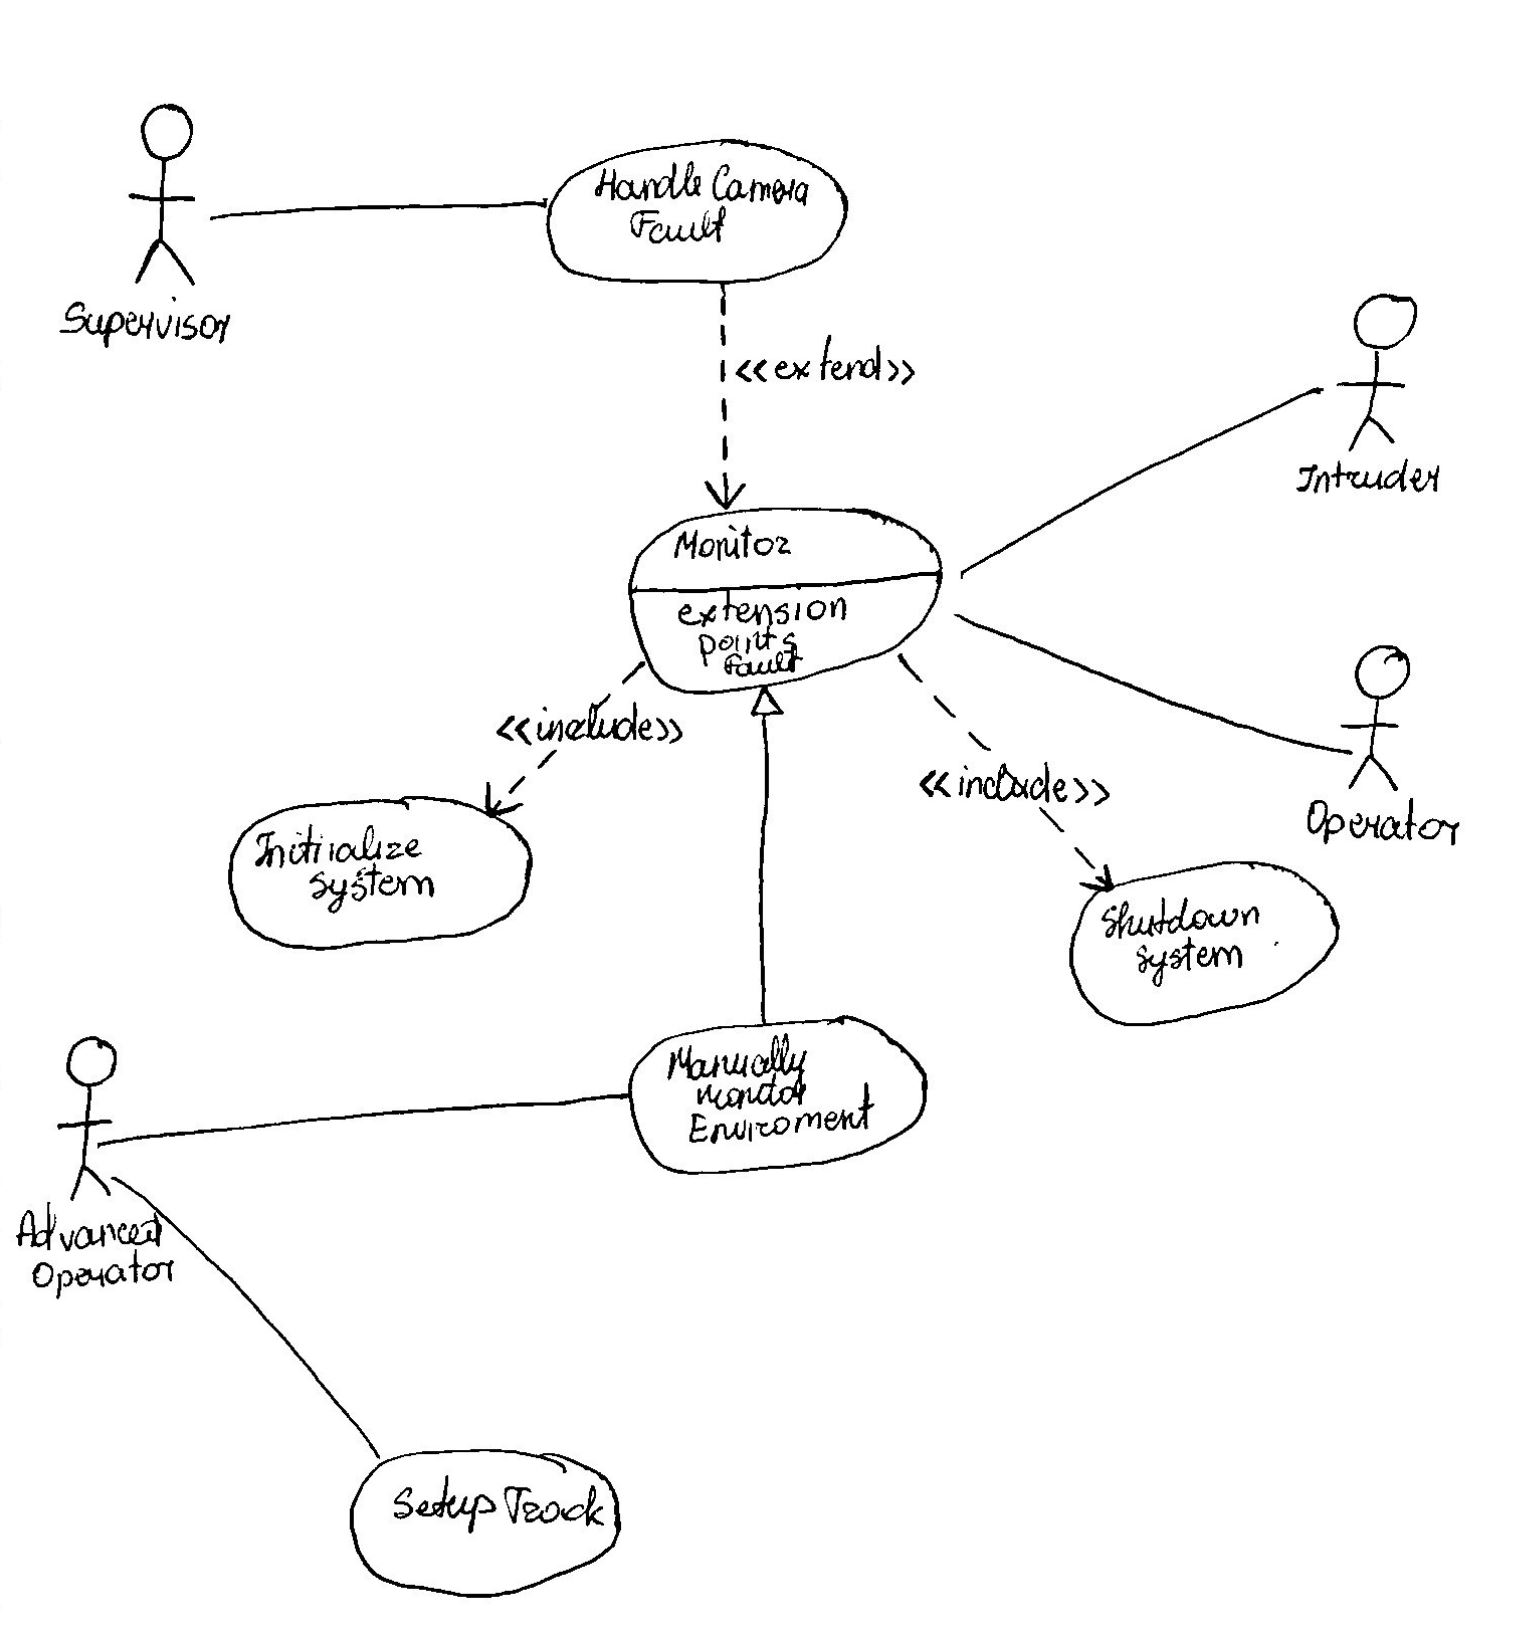actor: (117, 87, 208, 289), (1333, 286, 1415, 455), (44, 1024, 119, 1203), (1335, 642, 1414, 796)
association: (957, 381, 1331, 581), (116, 1176, 370, 1446), (960, 613, 1341, 756), (900, 650, 1114, 896), (100, 1075, 620, 1161), (483, 652, 647, 819), (741, 687, 786, 1024), (205, 190, 551, 229), (699, 281, 751, 510)
text: (665, 1035, 884, 1148), (593, 158, 814, 248), (249, 820, 445, 915), (1101, 892, 1270, 991), (9, 1201, 179, 1297), (675, 594, 864, 679), (391, 1471, 606, 1538), (920, 752, 1113, 813), (733, 334, 917, 392), (62, 296, 241, 354), (1303, 796, 1462, 855), (497, 703, 686, 750), (1291, 460, 1455, 501), (675, 524, 801, 568)
use_case: (627, 503, 945, 696), (627, 1015, 930, 1181), (226, 793, 530, 955), (544, 137, 847, 289), (1066, 861, 1336, 1028), (352, 1442, 622, 1597)
